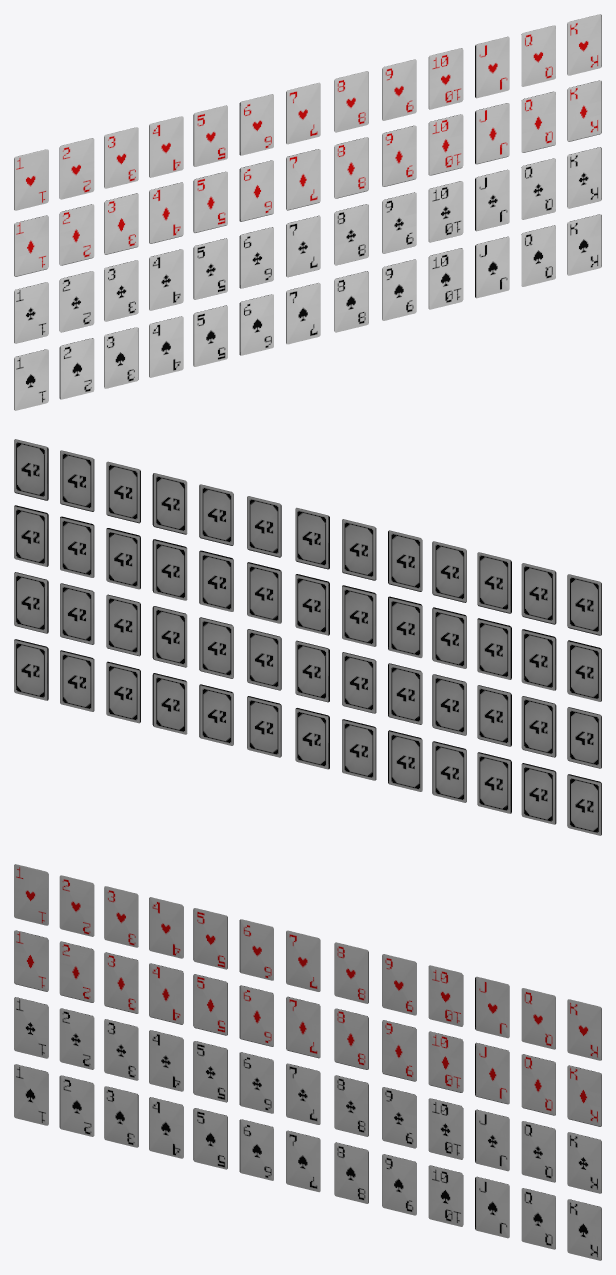
File: cardsFlippedHV.gltf
3 renders of one model, top to bottom at view 1: azimuth 30°, elevation 25°; view 2: azimuth 150°, elevation 25°; view 3: azimuth 330°, elevation 25°, orthographic.
Visible parts, largest first — view 1: Polygon Reduction.1; view 2: Polygon Reduction.1; view 3: Polygon Reduction.1.
Boxes of the visible parts, bbox=[...] form: Polygon Reduction.1: bbox=[14, 14, 601, 410]; Polygon Reduction.1: bbox=[14, 439, 601, 835]; Polygon Reduction.1: bbox=[14, 864, 601, 1260].
Size of the model in its own units: 1.37 by 0.5649 by 0.001.
1 material, 1 textured.
